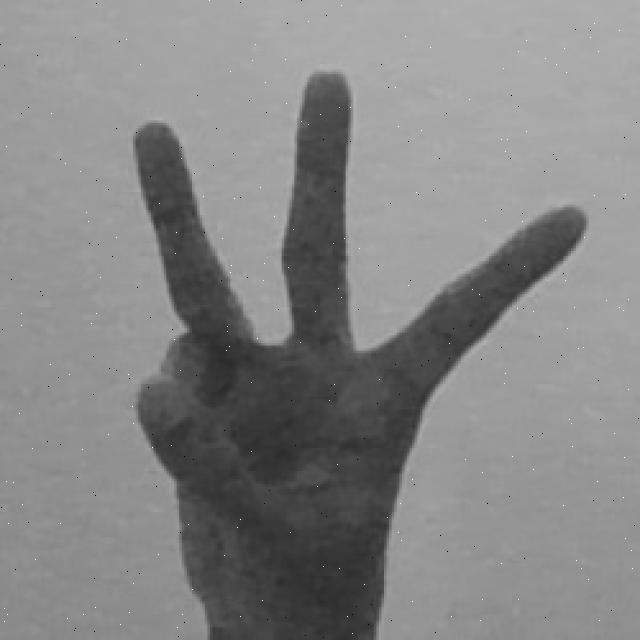W: (125, 66, 592, 640)
